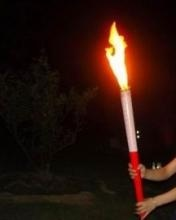fire: (104, 19, 130, 90)
